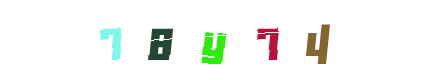4: (257, 0, 337, 80)
7: (105, 0, 185, 80), (182, 0, 262, 80)
8: (120, 0, 200, 80)
Y: (173, 0, 253, 80)
